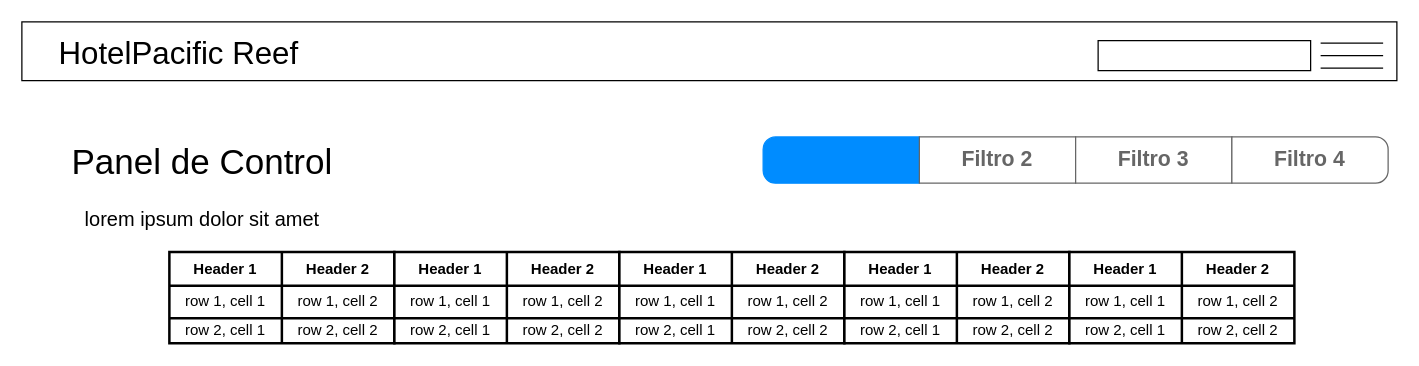
This 1419x366 diagram has some shape labels left out. Here are the shapes that lost their labels. From the top down, the box of each, then its label:
(1097, 39, 1311, 71): Ver habitaciones
(762, 136, 919, 183): Filtro 1
